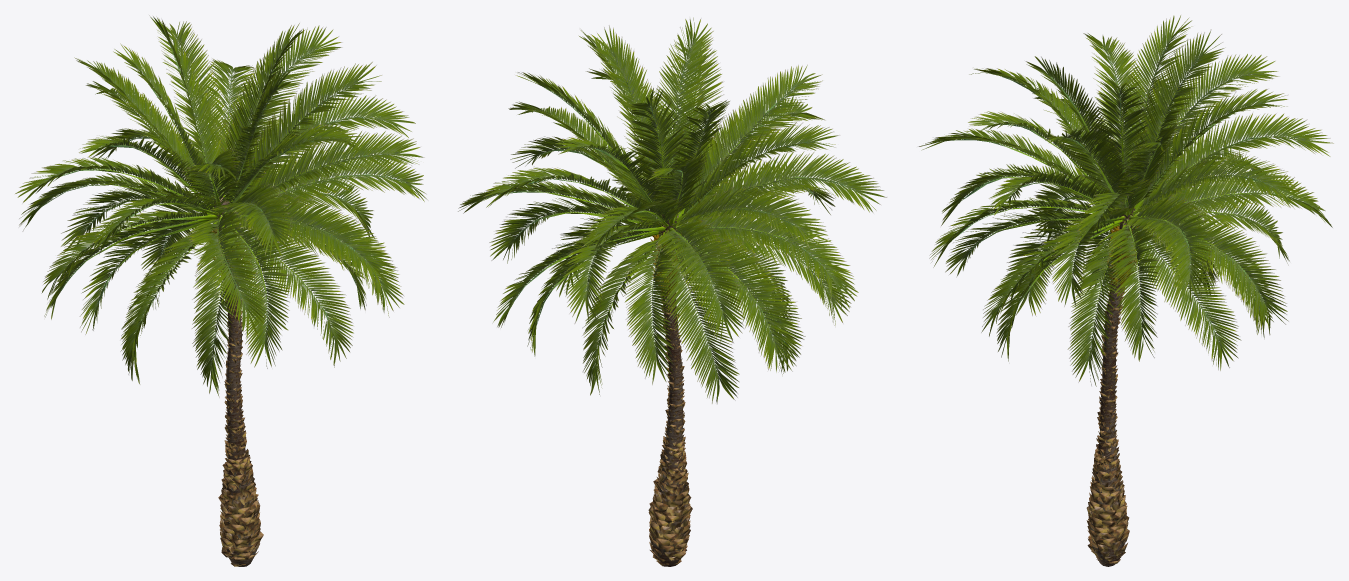
Rendered from phoenix_2.glb.
The picture shows the model from 3 angles, left to right: view 1: azimuth 30°, elevation 25°; view 2: azimuth 150°, elevation 25°; view 3: azimuth 270°, elevation 25°; orthographic projection.
Parts seen in each view (by area): view 1: Phoenix_Sylvestris_Small04; view 2: Phoenix_Sylvestris_Small04; view 3: Phoenix_Sylvestris_Small04.
Boxes of the visible parts, left/top/right/bottom form: Phoenix_Sylvestris_Small04: left=15, top=15, right=427, bottom=566; Phoenix_Sylvestris_Small04: left=458, top=18, right=886, bottom=566; Phoenix_Sylvestris_Small04: left=918, top=15, right=1333, bottom=566.
Bounding box in the file's own units: 8 × 11.01 × 8.08.
6 materials, 6 textured.
